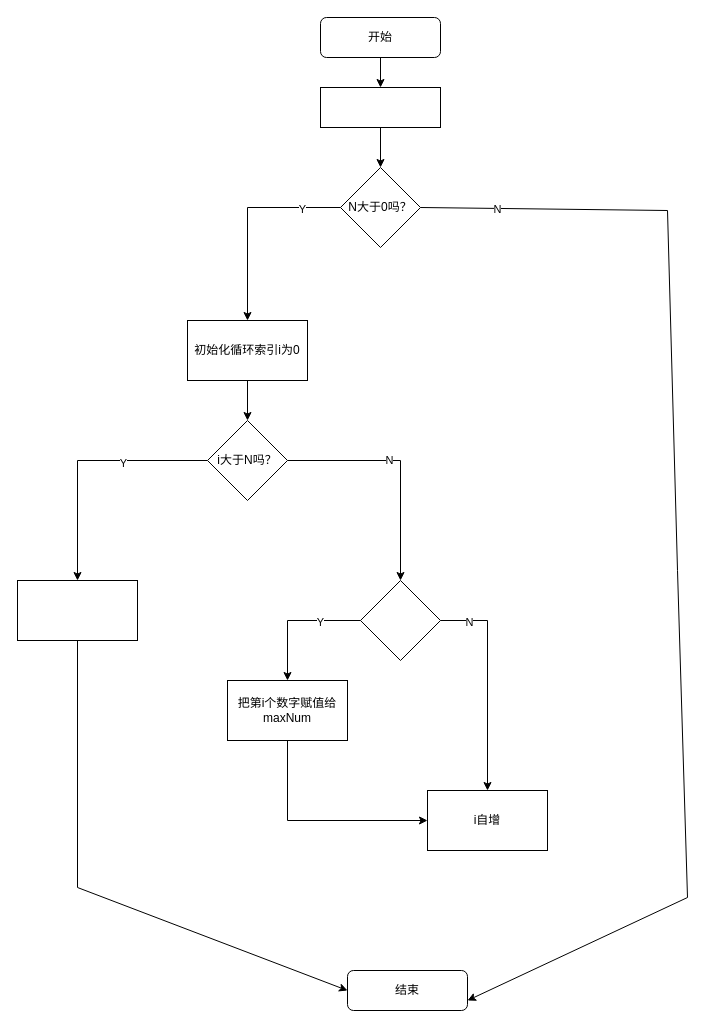
This 713x1028 diagram has some shape labels left out. The centre of each missing label's shape, as x and y in pixels:
"初始化maxNum为-1" goes at point 380,107.
"第i个数大于maxNum？" goes at point 400,620.
"返回maxNum" goes at point 77,610.
